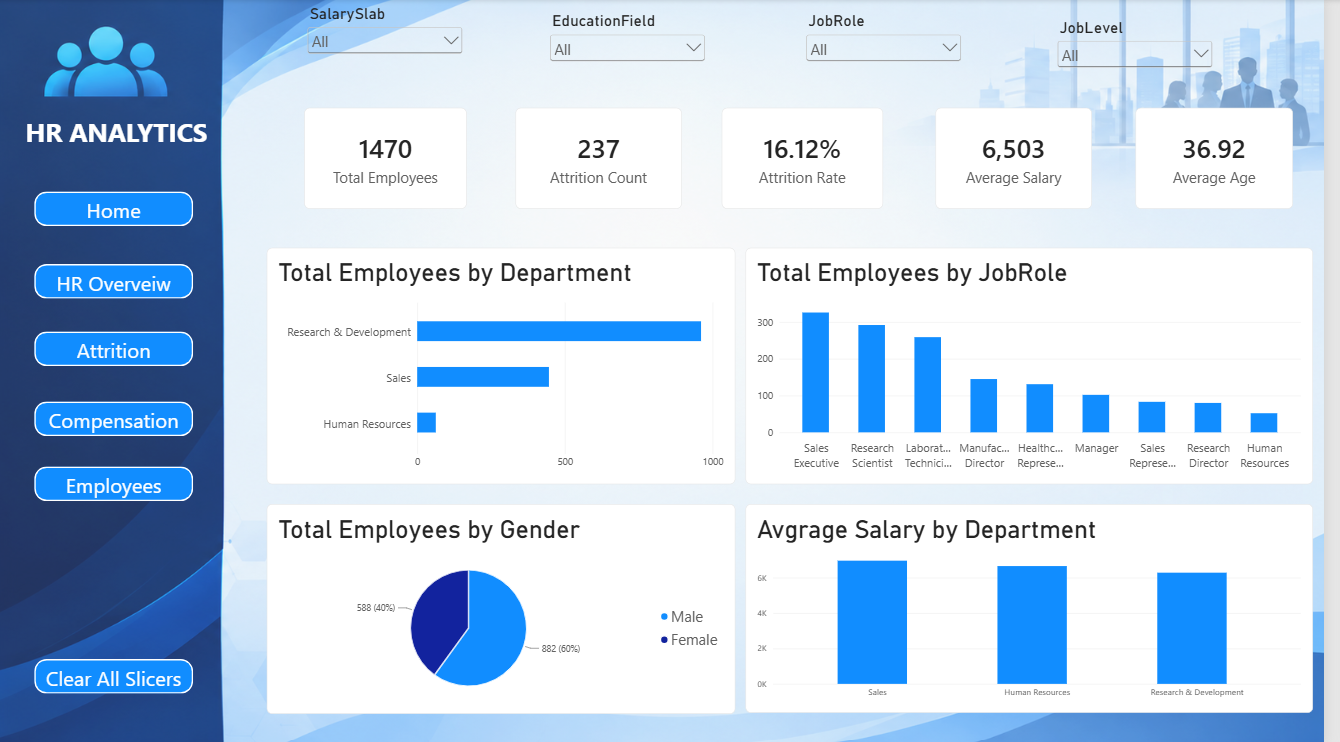

The dashboard page shown, as its layout file describes it:
{"tool":"powerbi","page":{"name":"HR Overview","canvas":[1920,1080],"ordinal":1},"visuals":[{"type":"card","fields":{"Values":["Measure.Total Employees"]},"box":[443.4,157.4,235.3,146.6],"z":0},{"type":"textbox","box":[39.8,166.5,273.3,63.3],"z":0,"group":"g1"},{"type":"card","fields":{"Values":["Measure.Avgrage Salary"]},"box":[1357.2,157.4,226.2,146.6],"z":1000},{"type":"card","fields":{"Values":["Measure.Attrition Rate"]},"box":[1047.8,157.4,233.4,146.6],"z":2000},{"type":"card","fields":{"Values":["Measure.Attrition Count"]},"box":[749.2,157.4,240.7,146.6],"z":3000},{"type":"card","fields":{"Values":["Measure.Average age"]},"box":[1646.8,157.4,228,146.6],"z":4000},{"type":"barChart","fields":{"Category":["Dim_Department.Department"],"Y":["Measure.Total Employees"]},"box":[389.1,360.1,678.6,342],"z":5000},{"type":"pieChart","fields":{"Category":["Dim_Employees.Gender"],"Y":["Measure.Total Employees"]},"box":[389.1,731.1,678.6,304],"z":6000},{"type":"columnChart","fields":{"Category":["Dim_Job.JobRole"],"Y":["Measure.Total Employees"]},"box":[1082.2,360.1,821.6,342],"z":7000},{"type":"columnChart","fields":{"Category":["Dim_Department.Department"],"Y":["Measure.Avgrage Salary"]},"box":[1082.2,731.1,821.6,302.2],"z":8000},{"type":"actionButton","box":[52.5,278.7,230,50],"z":9000,"group":"g1"},{"type":"actionButton","box":[52.5,383.7,230,50],"z":10000,"group":"g1"},{"type":"actionButton","box":[52.5,481.4,230,50],"z":11000,"group":"g1"},{"type":"actionButton","box":[52.5,582.7,230,50],"z":12000,"group":"g1"},{"type":"actionButton","box":[52.5,955.5,230,50],"z":13000,"group":"g1"},{"type":"actionButton","box":[52.5,676.8,230,50],"z":14000,"group":"g1"},{"type":"slicer","fields":{"Values":["Fact_HR.SalarySlab"]},"box":[444,8,234,90],"z":16000},{"type":"slicer","fields":{"Values":["Dim_Education.EducationField"]},"box":[794,18,234,90],"z":17000},{"type":"slicer","fields":{"Values":["Dim_Job.JobRole"]},"box":[1166,18,234,90],"z":18000},{"type":"slicer","fields":{"Values":["Fact_HR.JobLevel"]},"box":[1530,28,234,90],"z":19000},{"type":"group","id":"g1","title":"Group 3","box":[39.8,166.5,273.3,839],"z":20001}]}

Visuals, with their boxes in screenshot pixels (x1, y1, x2, y2), scaled from the page's 1920x1080 canvas onto the 1340x742 screenshot:
card - Measure.Total Employees: detection(309, 108, 474, 209)
textbox: detection(28, 114, 219, 158)
card - Measure.Avgrage Salary: detection(947, 108, 1105, 209)
card - Measure.Attrition Rate: detection(731, 108, 894, 209)
card - Measure.Attrition Count: detection(523, 108, 691, 209)
card - Measure.Average age: detection(1149, 108, 1308, 209)
barChart - Dim_Department.Department x Measure.Total Employees: detection(272, 247, 745, 482)
pieChart - Dim_Employees.Gender x Measure.Total Employees: detection(272, 502, 745, 711)
columnChart - Dim_Job.JobRole x Measure.Total Employees: detection(755, 247, 1329, 482)
columnChart - Dim_Department.Department x Measure.Avgrage Salary: detection(755, 502, 1329, 710)
actionButton: detection(37, 191, 197, 226)
actionButton: detection(37, 264, 197, 298)
actionButton: detection(37, 331, 197, 365)
actionButton: detection(37, 400, 197, 435)
actionButton: detection(37, 656, 197, 691)
actionButton: detection(37, 465, 197, 499)
slicer - Fact_HR.SalarySlab: detection(310, 5, 473, 67)
slicer - Dim_Education.EducationField: detection(554, 12, 717, 74)
slicer - Dim_Job.JobRole: detection(814, 12, 977, 74)
slicer - Fact_HR.JobLevel: detection(1068, 19, 1231, 81)
"Group 3" group: detection(28, 114, 219, 691)
